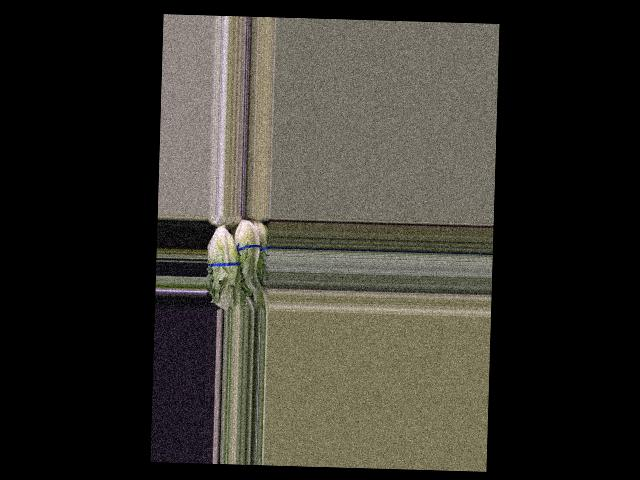lettuce: (232, 218, 266, 294)
